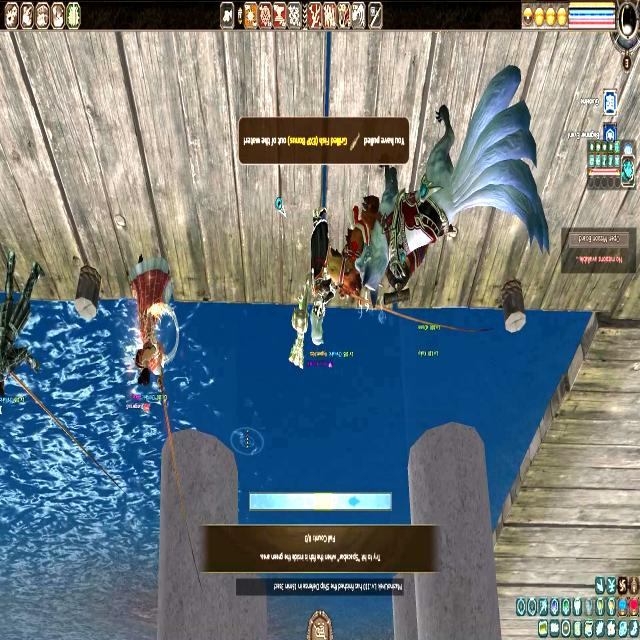fishes: (347, 495, 360, 509)
